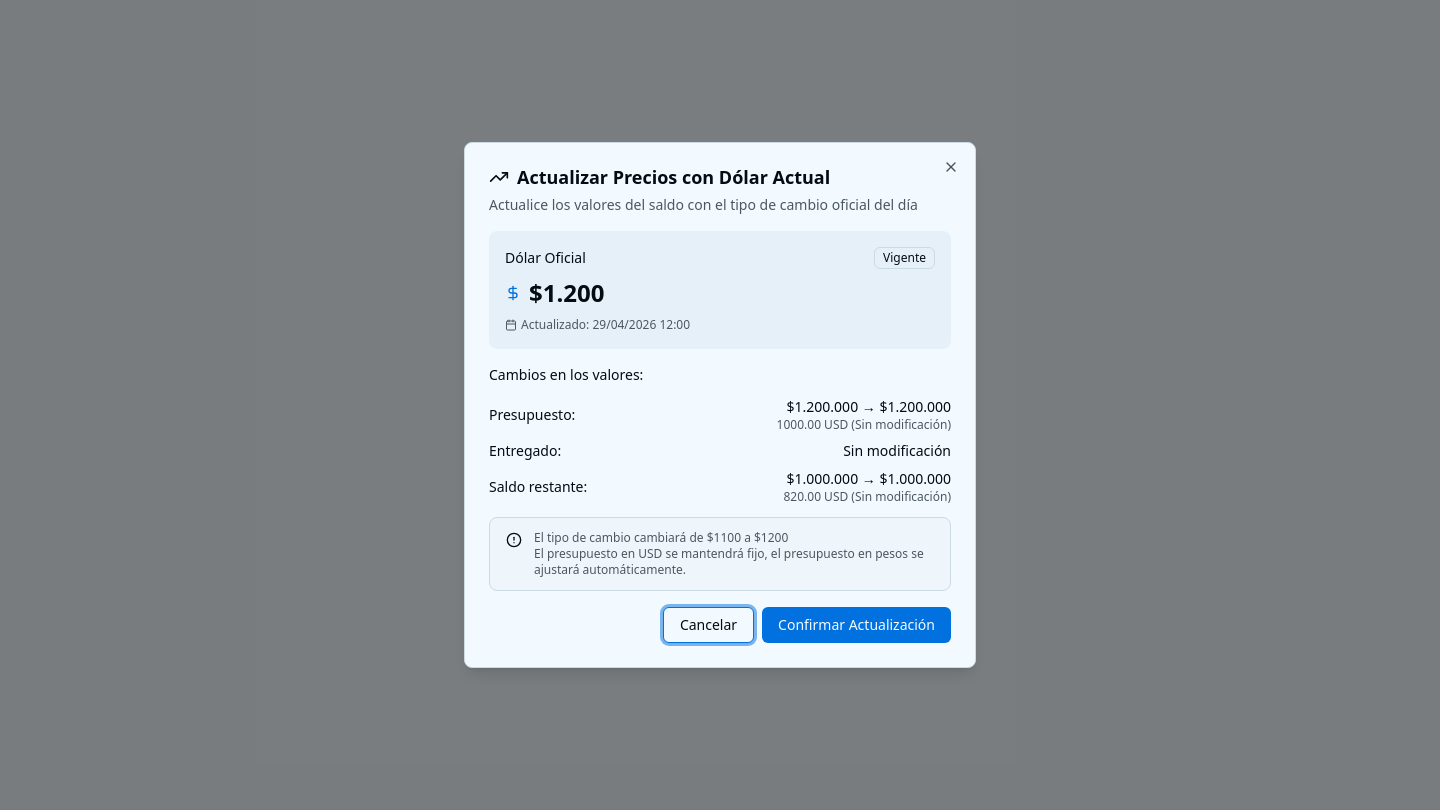
Test: DollarUpdateModal › shows error when update fails
Expected: the text "Dólar Oficial" is shown, [505,248,586,268]
Click the button "Confirmar Actualización": (857, 625) [762,607,951,643]
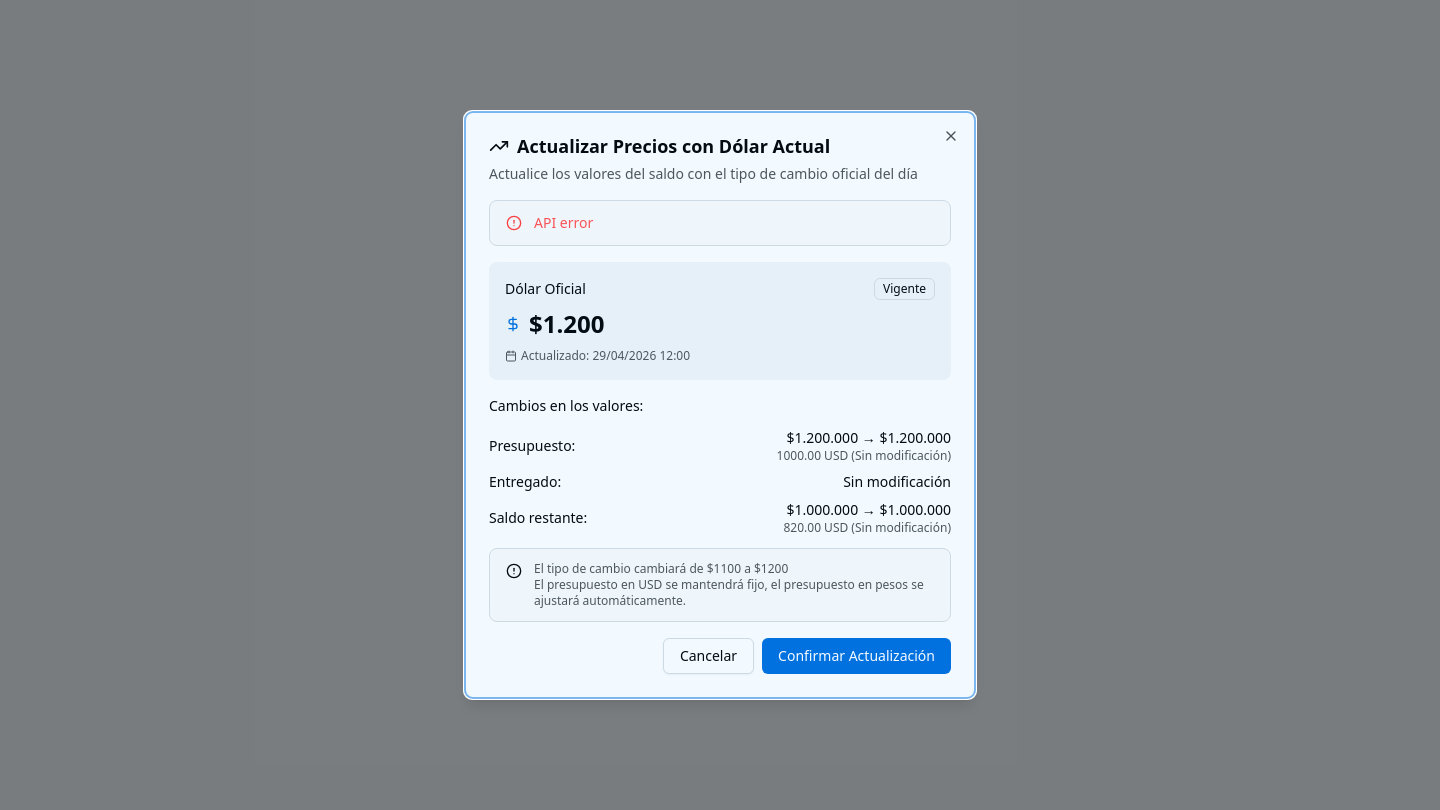
Expected: the text "API error" is shown, [534,213,593,232]
